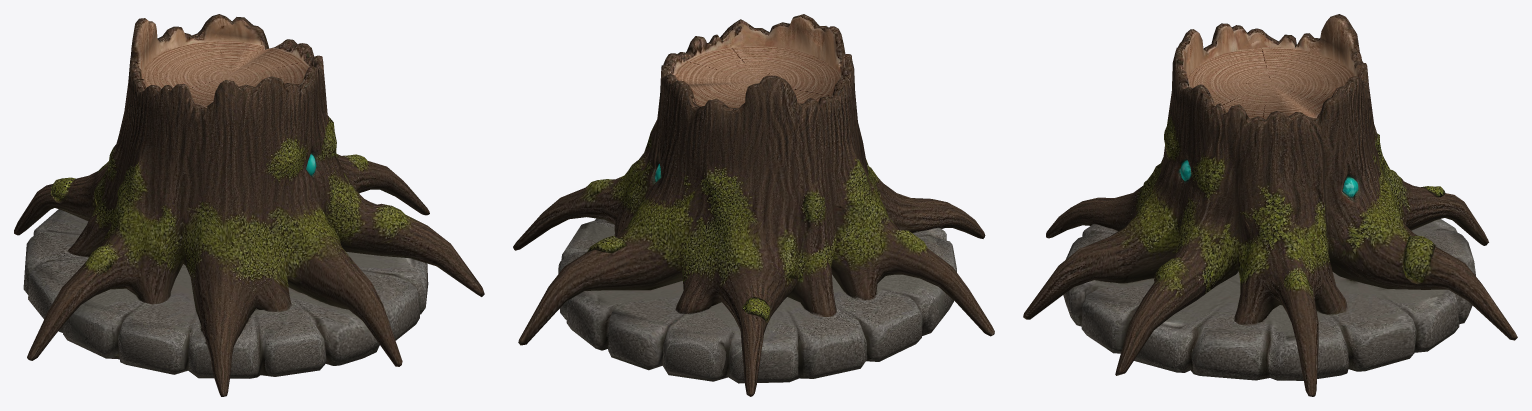
Rendered from tripo_convert_29fb5809-578c-4540-a2d8-c2696a230913.fbx.
3 views of the same model, side by side, from view 1: azimuth 30°, elevation 25°; view 2: azimuth 150°, elevation 25°; view 3: azimuth 270°, elevation 25° (orthographic).
Parts seen in each view (by area): view 1: tripo_node_29fb5809; view 2: tripo_node_29fb5809; view 3: tripo_node_29fb5809.
Part boxes in pixels (x1,y1,x2,y2): tripo_node_29fb5809: (14, 14, 484, 396); tripo_node_29fb5809: (513, 14, 994, 396); tripo_node_29fb5809: (1023, 14, 1517, 396).
Bounding box in the file's own units: 0.998 × 0.5645 × 0.9746.
Materials: 1 (1 with a texture image).
